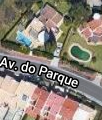pool: (72, 45, 90, 62), (16, 34, 32, 46)
